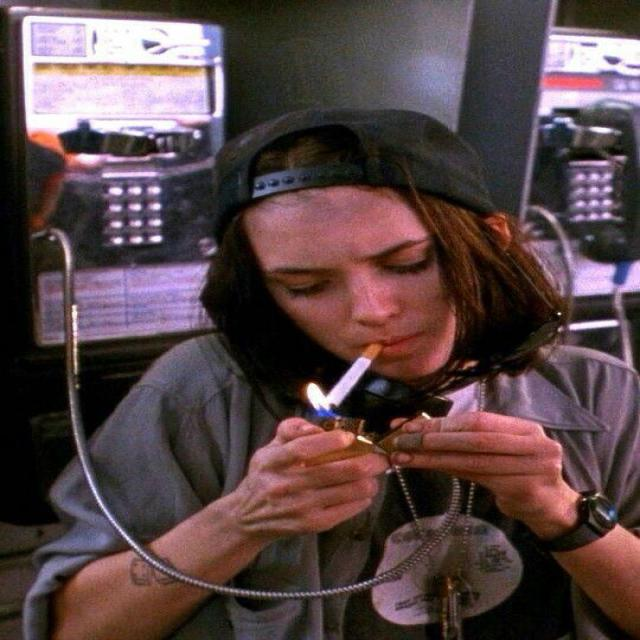cigarette: (319, 339, 385, 420)
